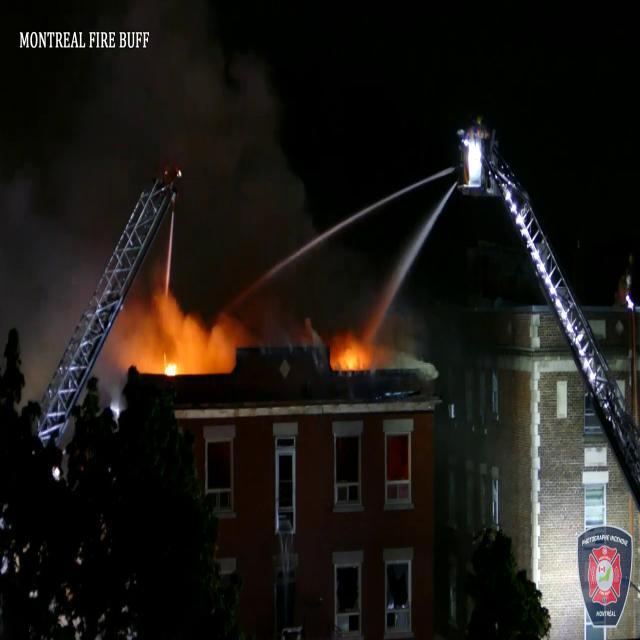Fire: (328, 331, 378, 376), (153, 350, 185, 382)
Smoke: (0, 1, 306, 377)
